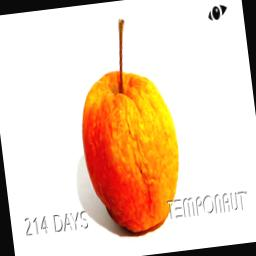Apple Overripe: (66, 0, 193, 239)
